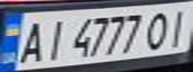4: (69, 13, 93, 60)
7: (121, 11, 148, 54), (87, 12, 112, 57), (106, 11, 130, 56)
A: (12, 17, 48, 64)
I: (160, 5, 193, 48), (39, 16, 69, 63)
O: (142, 8, 175, 51)
